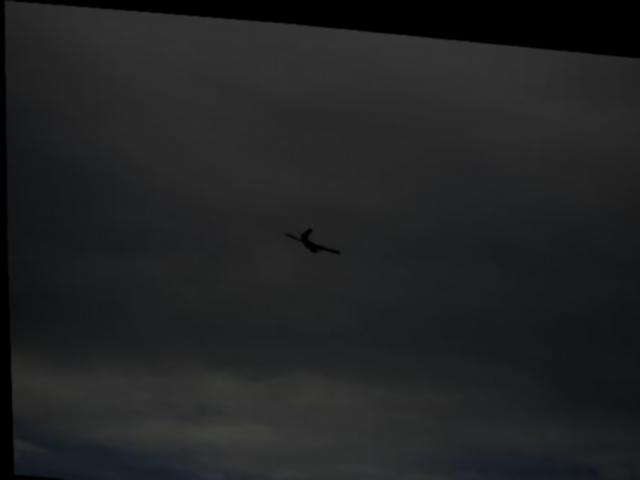uav: (276, 211, 349, 258)
